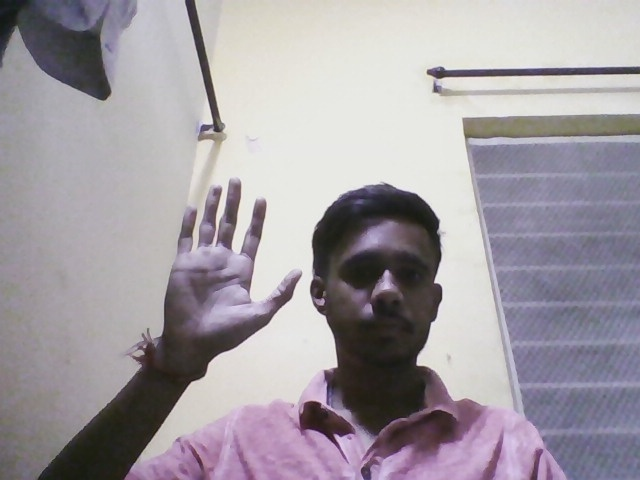hello: (159, 171, 309, 354)
